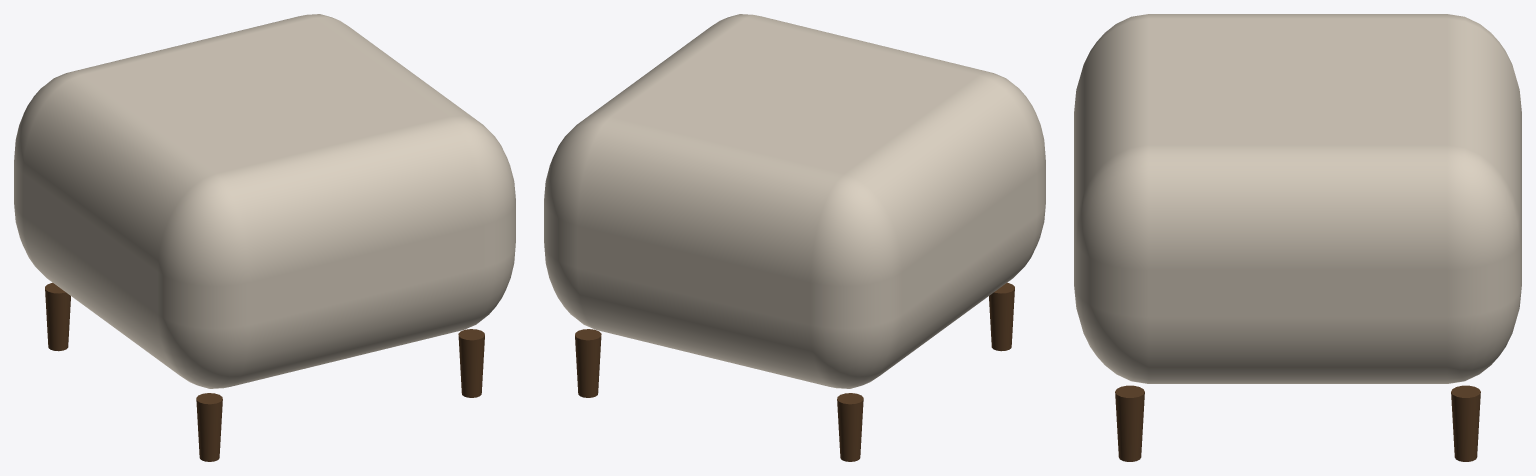
The model's file is ottoman.glb.
The picture shows the model from 3 angles, left to right: view 1: azimuth 30°, elevation 25°; view 2: azimuth 150°, elevation 25°; view 3: azimuth 270°, elevation 25°; orthographic projection. The views are drawn at different scales.
Size of the model in its own units: 0.6 by 0.45 by 0.6.
